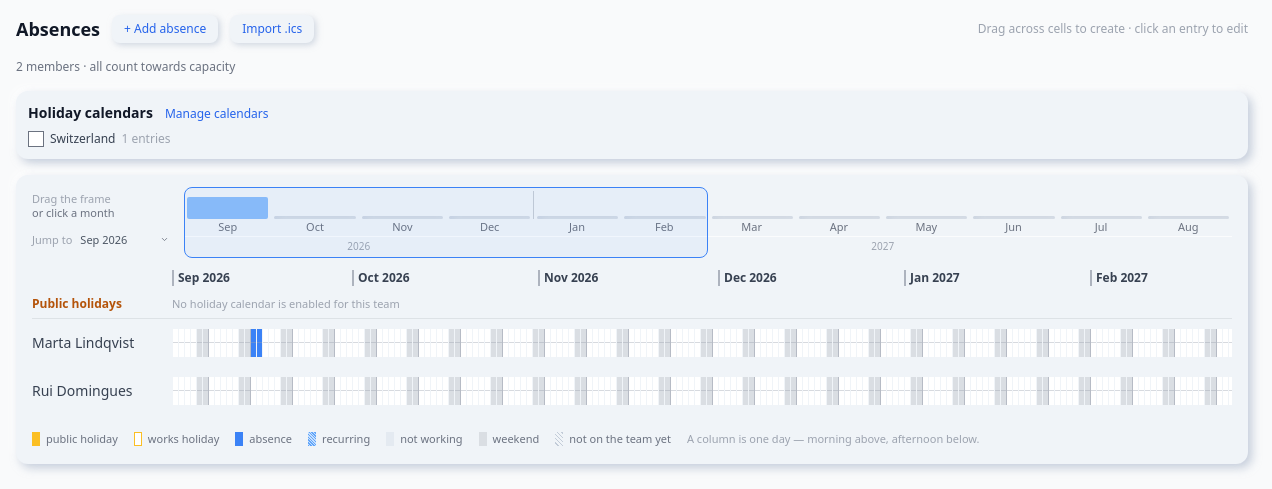
Test: AbsencesView › lands on a month past the strip’s end rather than near it
The image size is (1272, 489).
Expected: the table named "absences by member" is shown, [32, 319, 1232, 415]
Click the button named "Show Aug 2027".
click(1188, 205)  # box [1145, 191, 1232, 219]
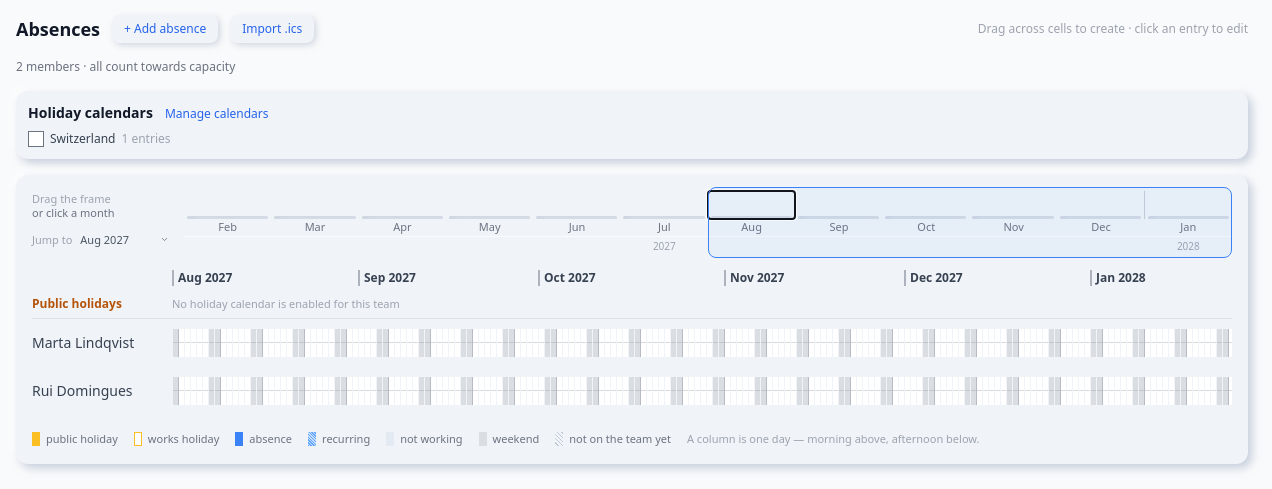
Expected: the text "Aug 2027" is shown, [178, 270, 232, 286]
